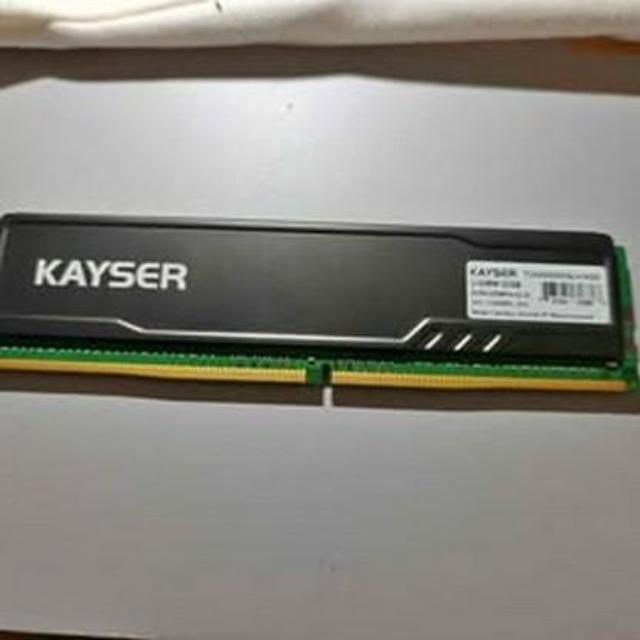RAM: (0, 200, 640, 406)
